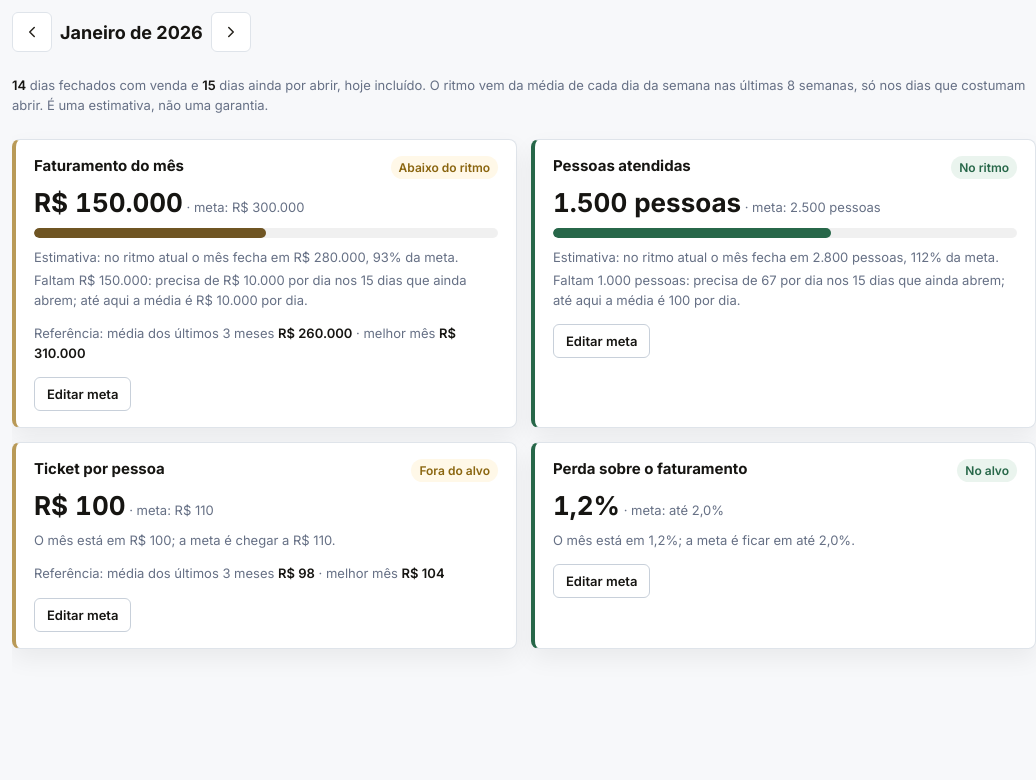
MetasPanel (busca, mes e gravacao) › navegar para o mes anterior busca o mes anterior, inclusive na virada do ano
Expected: the heading "janeiro de 2026" is shown, 60,22 -> 203,42
Click the button named "Mês anterior".
click(32, 32)  # box 12,12 -> 52,52
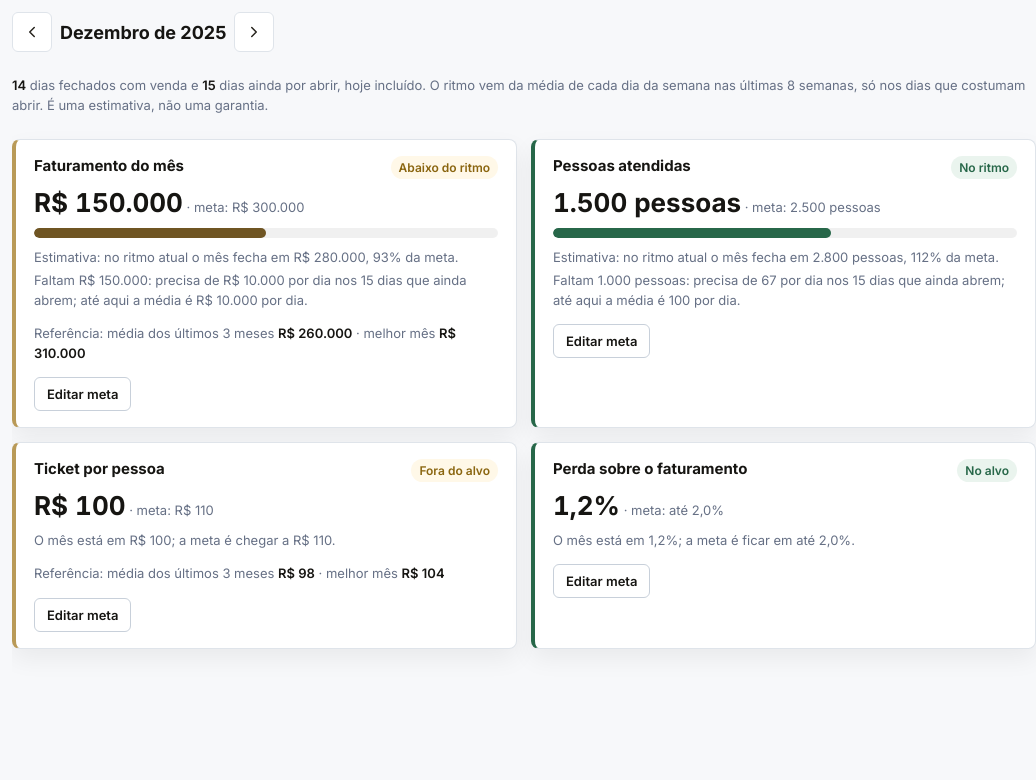
Result: the heading "dezembro de 2025" is shown at 60,22 -> 226,42
